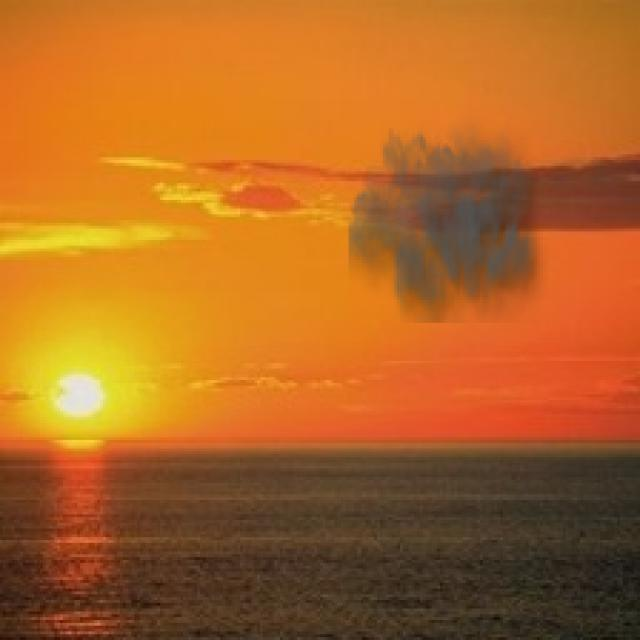smoke: (348, 106, 552, 323)
